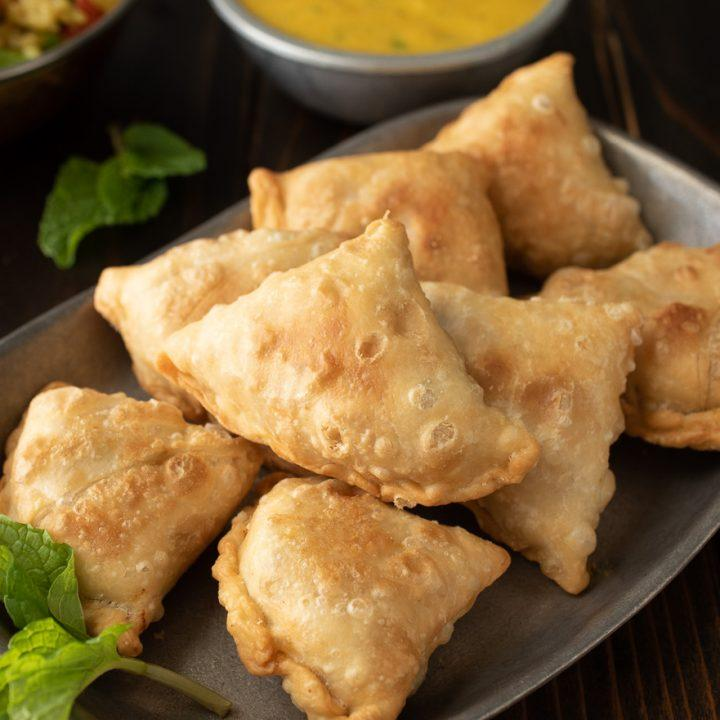samosa: (159, 218, 539, 506), (212, 477, 509, 720), (0, 384, 262, 655), (422, 283, 640, 593), (426, 53, 652, 276), (94, 229, 345, 421), (249, 150, 506, 293), (59, 503, 66, 511), (674, 307, 678, 311)
